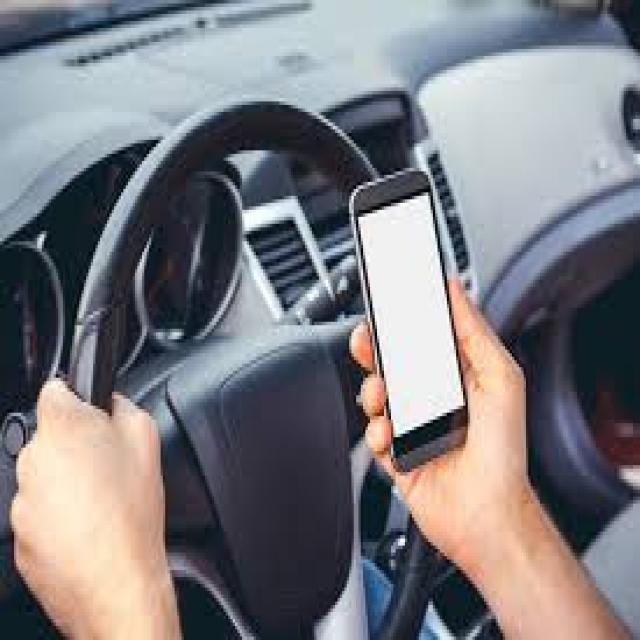Cellphone_texting: (335, 161, 526, 531)
